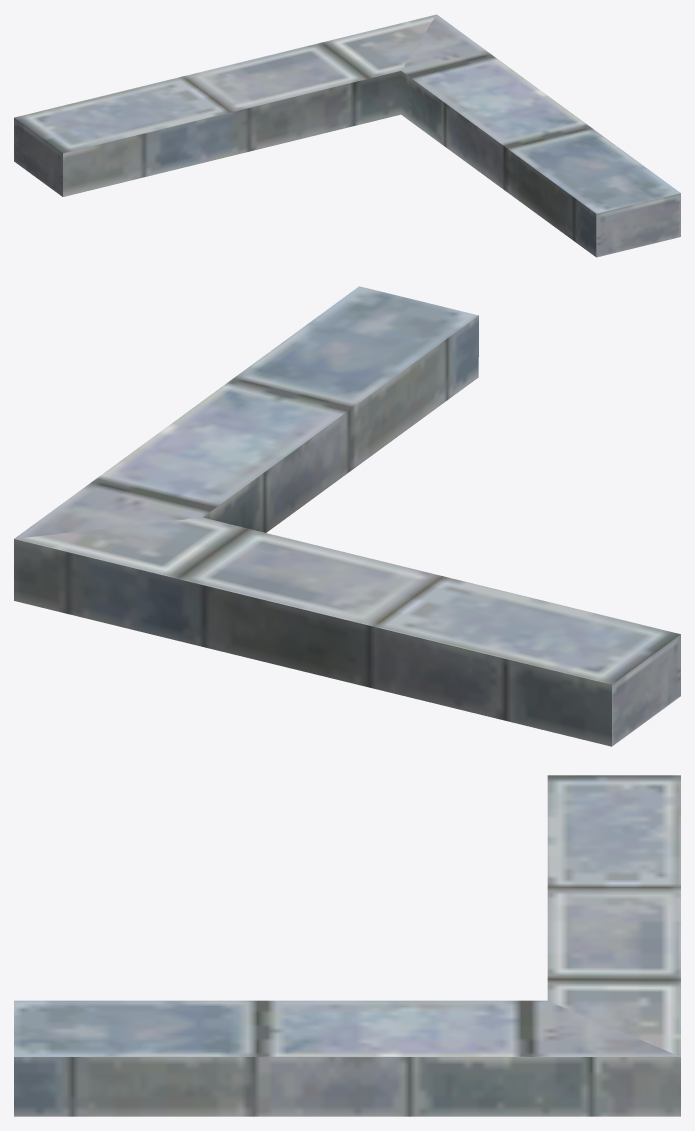
The model's file is nml-bd012.glb.
The picture shows the model from 3 angles, top to bottom: view 1: azimuth 30°, elevation 25°; view 2: azimuth 150°, elevation 25°; view 3: azimuth 270°, elevation 25°; orthographic projection. The views are drawn at different scales.
Visible parts, largest first — view 1: geom_node_0; view 2: geom_node_0; view 3: geom_node_0.
Part boxes in pixels (x1,y1,x2,y2): geom_node_0: [14, 14, 680, 257]; geom_node_0: [14, 286, 680, 746]; geom_node_0: [14, 775, 680, 1116].
Size of the model in its own units: 1 by 0.099 by 1.
1 material, 1 textured.
